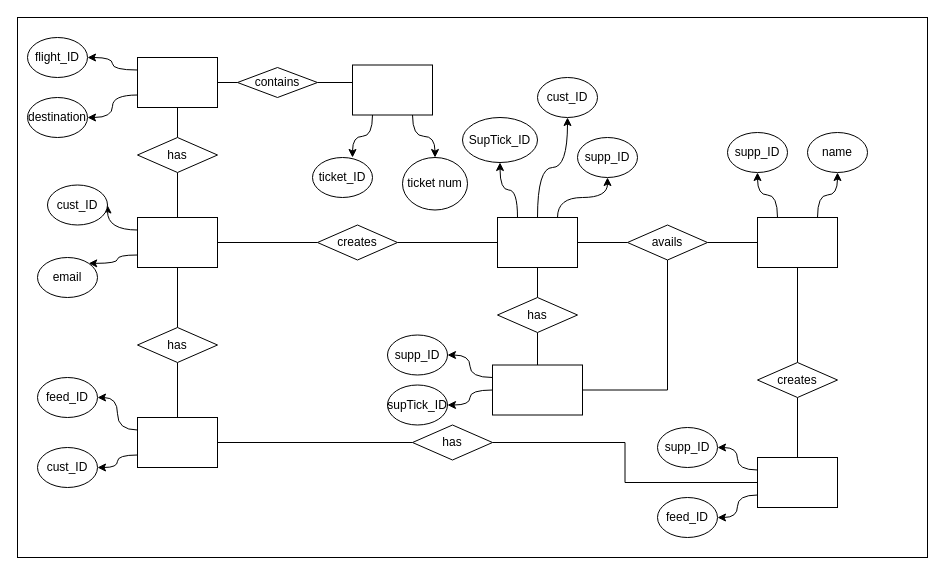
The diagram is 945 pixels wide and 575 high, and some of its shapes have lost their labels. The centre of each missing label's shape, as x and y in pixels:
CaseResponse: pixel 537 389
Customer: pixel 177 242
Customer Feedback: pixel 177 442
Feedback Response: pixel 797 482
Flight: pixel 177 82
Suport Specialist: pixel 797 242
Support Ticket: pixel 537 242
Ticket: pixel 392 89
